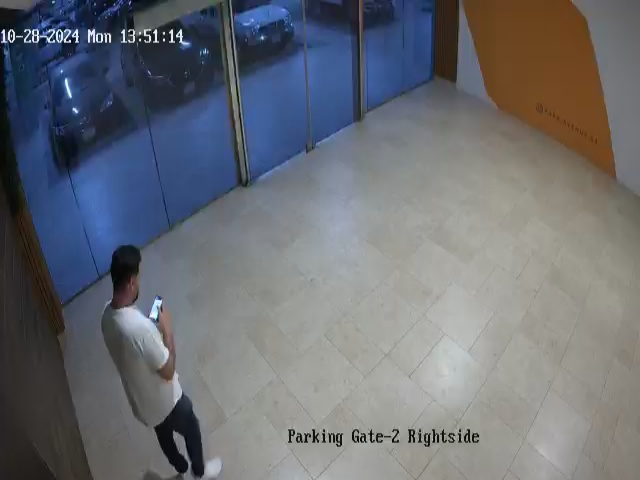male: (100, 244, 224, 480)
